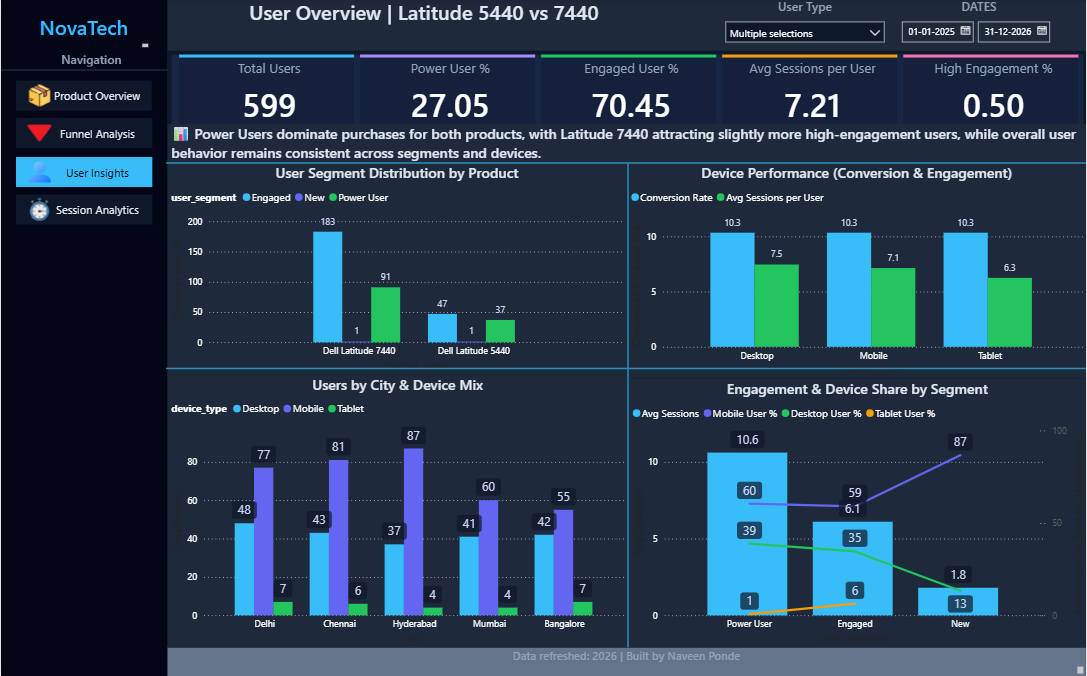

What the dashboard file says about the page in this screenshot:
{"tool":"powerbi","page":{"name":"user","canvas":[1440,900],"ordinal":2},"visuals":[{"type":"shape","box":[0,0,220,900],"z":0},{"type":"textbox","title":"NovaTech","box":[20,20,180,50.2],"z":1000},{"type":"textbox","title":"Navigation","box":[20,70,200,50],"z":2000},{"type":"shape","box":[220,0,1220,70],"z":3000},{"type":"shape","title":"Data refreshed: 2026 | Built by Naveen Ponde","box":[220.7,860.9,1218.8,39.8],"z":4000},{"type":"textbox","title":"Data refreshed: 2026 | Built by Naveen Ponde","box":[218.7,860.9,1220.8,39.8],"z":5000},{"type":"textbox","title":"User Overview | Latitude 5440 vs 7440","box":[324.1,0,526.9,69.6],"z":6000},{"type":"actionButton","title":"Product Overview","box":[20,110,180,40],"z":7000},{"type":"actionButton","title":"Product Overview","box":[20,160,180.9,39.8],"z":8000},{"type":"actionButton","title":"Product Overview","box":[20,210,180.9,39.8],"z":9000},{"type":"actionButton","title":"Product Overview","box":[20,260,180.9,39.8],"z":10000},{"type":"slicer","title":"User Type","fields":{"Values":["users.user_segment"]},"box":[950,0,230.6,69.6],"z":11000},{"type":"slicer","title":"DATES","fields":{"Values":["DateTable.Date"]},"box":[1181,0,230.6,69.6],"z":12000},{"type":"shape","box":[0,81.5,220.7,27.8],"z":13000},{"type":"cardVisual","fields":{"Data":["users.Total Users","users.Power User %","users.Engaged User %","users.Avg Sessions per User","users.High Engagement %"]},"box":[220,69,1220,109],"z":14000},{"type":"clusteredColumnChart","title":"Device Performance (Conversion & Engagement)","fields":{"Category":["users.device_type"],"Y":["orders.Conversion Rate","users.Avg Sessions per User"]},"box":[829.1,218.7,610.4,286.3],"z":15000},{"type":"lineClusteredColumnComboChart","title":"Users by City & Device Mix","fields":{"Category":["users.city"],"Y":["users.Total Users"],"Series":["users.device_type"]},"box":[220.7,499.1,610.4,361.9],"z":16000},{"type":"lineClusteredColumnComboChart","title":"Engagement & Device Share by Segment","fields":{"Category":["users.user_segment"],"Y":["users.Avg Sessions per User"],"Y2":["users.Mobile User %","users.Desktop User %","users.Tablet User %"]},"box":[831,505,608,356],"z":17000},{"type":"textbox","title":"📊 Power Users dominate purchases for both products, with Latitude 7440 attracting slightly more high-engagement users, while overall user behavior remains consistent across segments and devices.","box":[220.7,167,1218.8,51.7],"z":18000},{"type":"clusteredColumnChart","title":"User Segment Distribution by Product","fields":{"Category":["products.product_name"],"Y":["Count(orders.user_id)"],"Series":["users.user_segment"]},"box":[220.7,218.7,608.4,280.3],"z":19000},{"type":"shape","box":[218.7,477.2,1220.8,27.8],"z":20000},{"type":"shape","box":[218.7,204.8,1220.8,27.8],"z":21000},{"type":"shape","box":[817.2,218.7,27.8,642.2],"z":22000}]}

Visuals, with their boxes in screenshot pixels (x1, y1, x2, y2), scaled from the page's 1440x900 canvas onto the 1087x676 screenshot:
shape: select_region(0, 0, 166, 675)
"NovaTech" textbox: select_region(15, 15, 151, 53)
"Navigation" textbox: select_region(15, 53, 166, 90)
shape: select_region(166, 0, 1086, 53)
"Data refreshed: 2026 | Built by Naveen Ponde" shape: select_region(167, 647, 1086, 675)
"Data refreshed: 2026 | Built by Naveen Ponde" textbox: select_region(165, 647, 1086, 675)
"User Overview | Latitude 5440 vs 7440" textbox: select_region(245, 0, 642, 52)
"Product Overview" actionButton: select_region(15, 83, 151, 113)
"Product Overview" actionButton: select_region(15, 120, 152, 150)
"Product Overview" actionButton: select_region(15, 158, 152, 188)
"Product Overview" actionButton: select_region(15, 195, 152, 225)
"User Type" slicer: select_region(717, 0, 891, 52)
"DATES" slicer: select_region(891, 0, 1066, 52)
shape: select_region(0, 61, 167, 82)
cardVisual - users.Total Users x users.Power User %: select_region(166, 52, 1086, 134)
"Device Performance (Conversion & Engagement)" clusteredColumnChart: select_region(626, 164, 1086, 379)
"Users by City & Device Mix" lineClusteredColumnComboChart: select_region(167, 375, 627, 647)
"Engagement & Device Share by Segment" lineClusteredColumnComboChart: select_region(627, 379, 1086, 647)
"📊 Power Users dominate purchases for both products, with Latitude 7440 attracting slightly more high-engagement users, while overall user behavior remains consistent across segments and devices." textbox: select_region(167, 125, 1086, 164)
"User Segment Distribution by Product" clusteredColumnChart: select_region(167, 164, 626, 375)
shape: select_region(165, 358, 1086, 379)
shape: select_region(165, 154, 1086, 175)
shape: select_region(617, 164, 638, 647)
